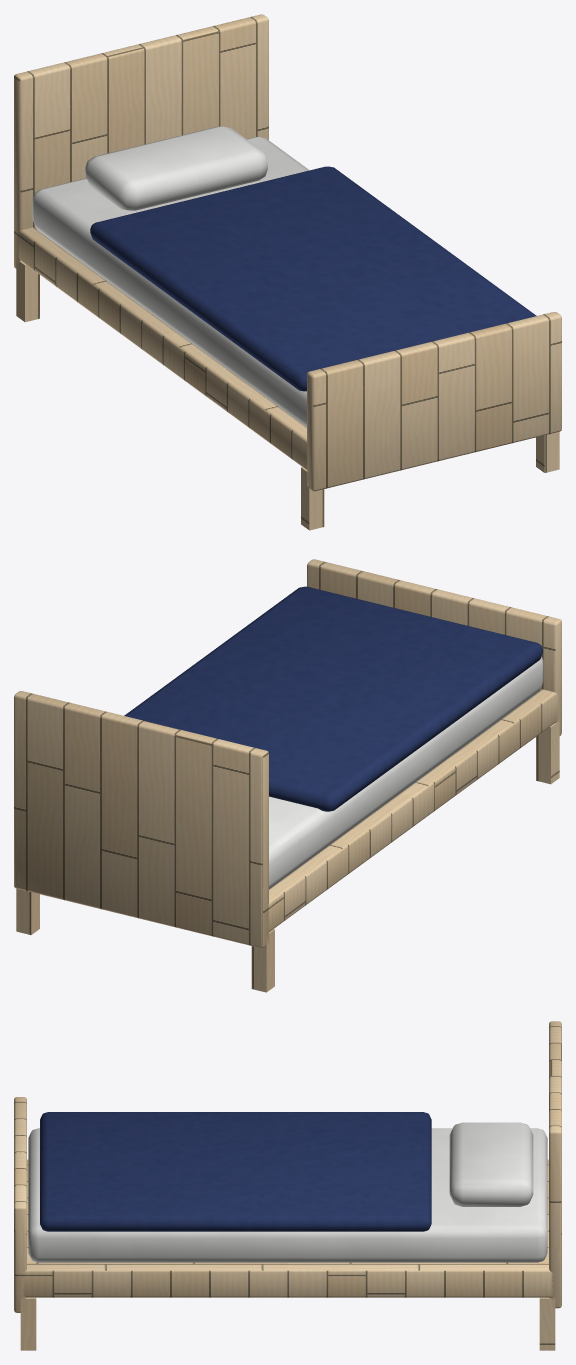
3 views of the same model, one above another, from view 1: azimuth 30°, elevation 25°; view 2: azimuth 150°, elevation 25°; view 3: azimuth 270°, elevation 25° (orthographic). The views are drawn at different scales.
Visible parts, largest first — view 1: Decor_bed_single; view 2: Decor_bed_single; view 3: Decor_bed_single.
Boxes of the visible parts, box(x1,y1,x2,y2) form: Decor_bed_single: box(14, 14, 561, 530); Decor_bed_single: box(14, 559, 561, 992); Decor_bed_single: box(14, 1021, 561, 1350).
Size of the model in its own units: 1.01 by 0.925 by 2.1.
Materials: 3 (3 with a texture image).
